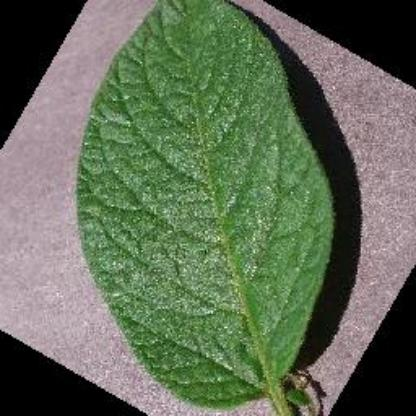Healthy-plant: (64, 0, 340, 406)
